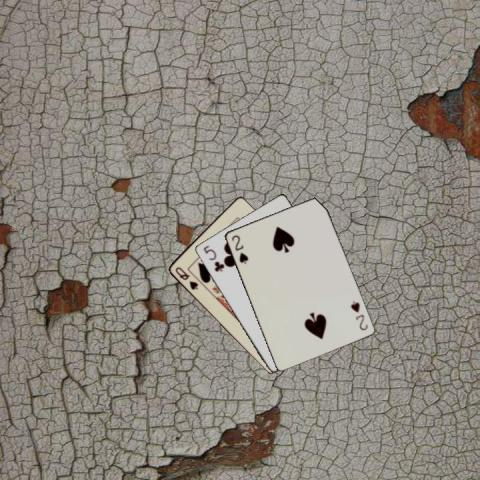2s: (347, 299, 369, 332), (228, 232, 249, 265)
5c: (200, 242, 225, 273)
Qs: (172, 264, 199, 291)
